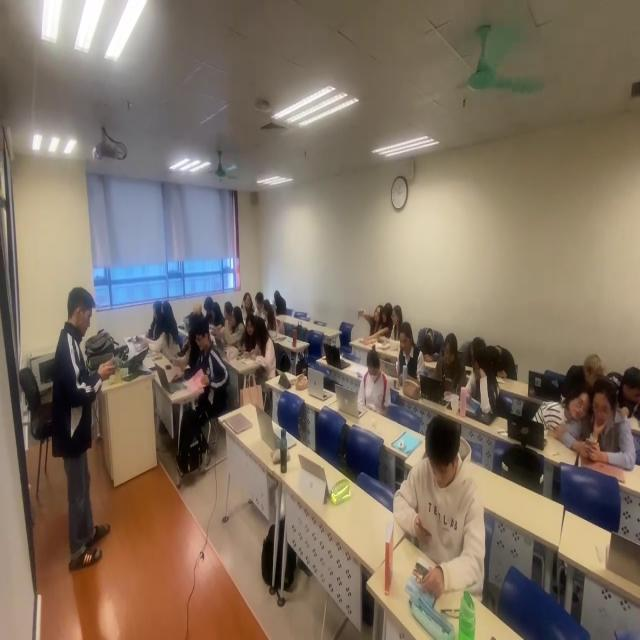sleep: (533, 380, 591, 449), (468, 335, 519, 378)
stand: (48, 284, 109, 558)
using_computer: (343, 352, 396, 425), (462, 344, 499, 423), (423, 335, 464, 401), (389, 327, 426, 387)
using_phone: (398, 418, 483, 582), (576, 380, 630, 476)
